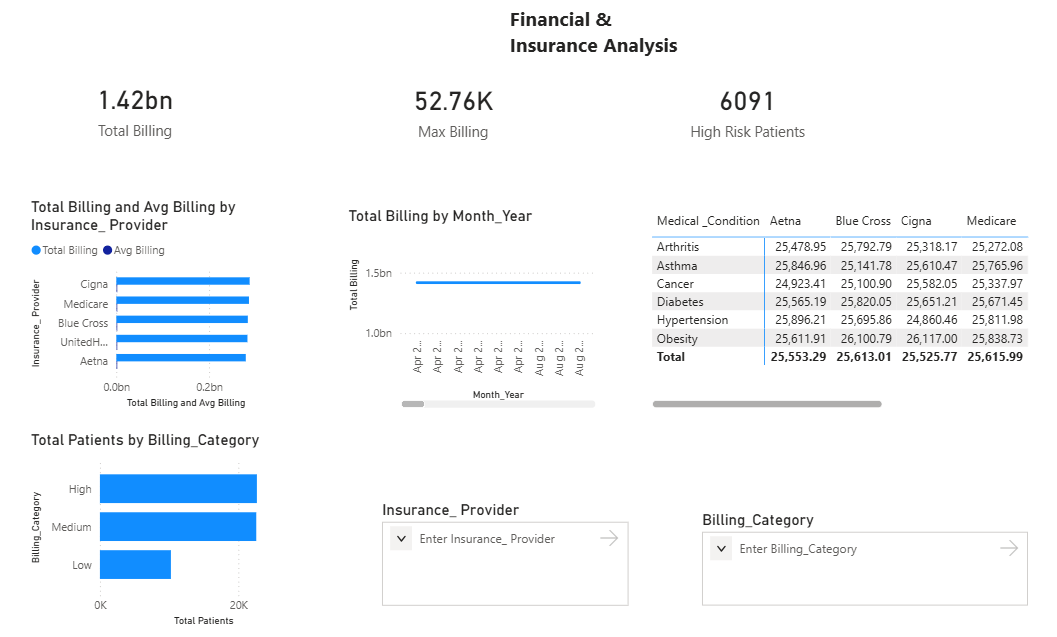

Layout of this report page (visuals, bound fields, positions):
{"tool":"powerbi","page":{"name":"Finance","canvas":[1280,720],"ordinal":2},"visuals":[{"type":"card","fields":{"Values":["Patientdata.Total Billing"]},"box":[96.1,86.4,161.9,97.4],"z":0},{"type":"card","fields":{"Values":["Patientdata.Max Billing"]},"box":[425.4,87.8,201.7,97.4],"z":1},{"type":"card","fields":{"Values":["Patientdata.High Risk Patients"]},"box":[747.9,87.8,203.1,96.1],"z":2},{"type":"clusteredBarChart","fields":{"Category":["Patientdata.Insurance_ Provider"],"Y":["Patientdata.Total Billing","Patientdata.Avg Billing"]},"box":[57.6,233.3,271.7,236],"z":3},{"type":"lineChart","fields":{"Category":["Date_Table.Month_Year"],"Y":["Patientdata.Total Billing"]},"box":[406.2,242.9,281.3,226.4],"z":4},{"type":"pivotTable","fields":{"Rows":["Patientdata.Medical _Condition"],"Columns":["Patientdata.Insurance_ Provider"],"Values":["Patientdata.Avg Billing"]},"box":[739.6,242.9,422.6,226.4],"z":5},{"type":"clusteredBarChart","fields":{"Category":["Patientdata.Billing_Category"],"Y":["Patientdata.Total Patients"]},"box":[57.6,488.5,323.8,220.9],"z":6},{"type":"textSlicer","fields":{"Values":["Patientdata.Insurance_ Provider"]},"box":[443.2,565.4,279.9,120.8],"z":7},{"type":"textSlicer","fields":{"Values":["Patientdata.Billing_Category"]},"box":[794.5,576.3,367.8,109.8],"z":8},{"type":"textbox","box":[583.2,16.5,212.7,70],"z":9}]}

Visuals, with their boxes on the page's 1280x720 design canvas (x1, y1, x2, y2). These are canvas units, not pixel positions in the 1057x637 screenshot, which may show the page scaled, cropped or inside an application window:
card - Patientdata.Total Billing: (left=96, top=86, right=258, bottom=184)
card - Patientdata.Max Billing: (left=425, top=88, right=627, bottom=185)
card - Patientdata.High Risk Patients: (left=748, top=88, right=951, bottom=184)
clusteredBarChart - Patientdata.Insurance_ Provider x Patientdata.Total Billing: (left=58, top=233, right=329, bottom=469)
lineChart - Date_Table.Month_Year x Patientdata.Total Billing: (left=406, top=243, right=688, bottom=469)
pivotTable - Patientdata.Medical _Condition x Patientdata.Insurance_ Provider: (left=740, top=243, right=1162, bottom=469)
clusteredBarChart - Patientdata.Billing_Category x Patientdata.Total Patients: (left=58, top=488, right=381, bottom=709)
textSlicer - Patientdata.Insurance_ Provider: (left=443, top=565, right=723, bottom=686)
textSlicer - Patientdata.Billing_Category: (left=794, top=576, right=1162, bottom=686)
textbox: (left=583, top=16, right=796, bottom=86)
